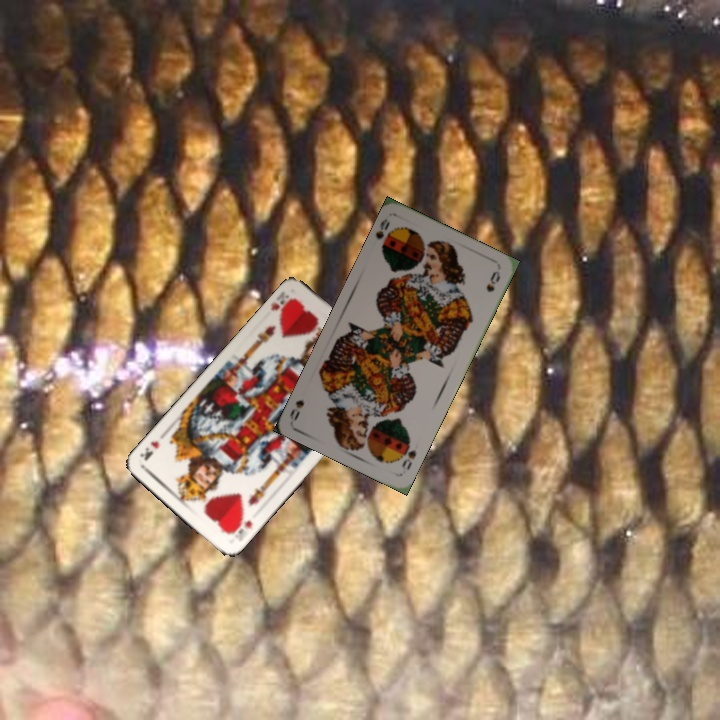HK: (266, 287, 298, 319), (225, 512, 255, 539)
SO: (371, 215, 395, 255), (397, 436, 419, 472)
